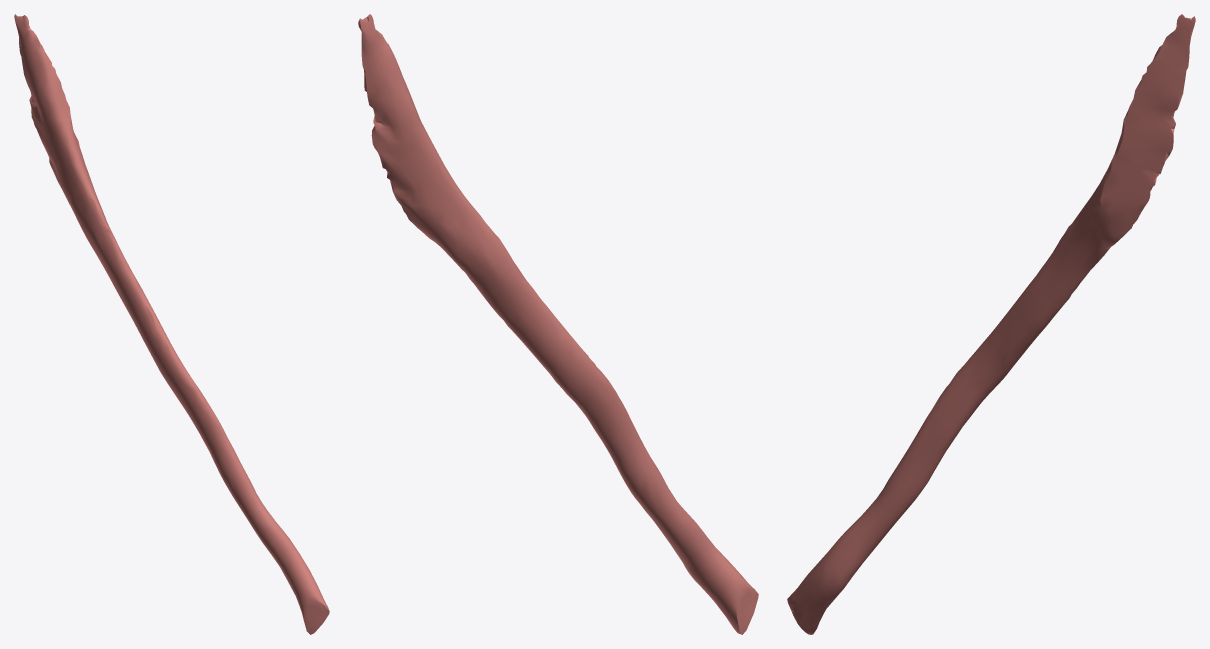
The model's file is fma49253_mm1972.glb.
3 views of the same model, side by side, from view 1: azimuth 90°, elevation 25°; view 2: azimuth 150°, elevation 25°; view 3: azimuth 270°, elevation 25° (orthographic). The views are drawn at different scales.
Visible parts, largest first — view 1: FMA49253_MM1972; view 2: FMA49253_MM1972; view 3: FMA49253_MM1972.
Boxes of the visible parts, left/top/right/bottom form: FMA49253_MM1972: left=14, top=14, right=329, bottom=634; FMA49253_MM1972: left=358, top=14, right=758, bottom=634; FMA49253_MM1972: left=787, top=14, right=1195, bottom=634.
Size of the model in its own units: 0.0257 by 0.0887 by 0.0462.
